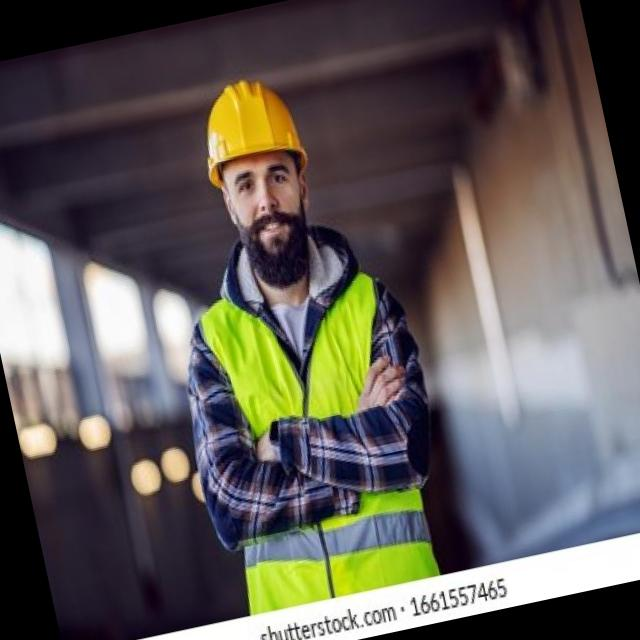Helmet: (185, 55, 322, 186)
Vest: (164, 227, 445, 620)
